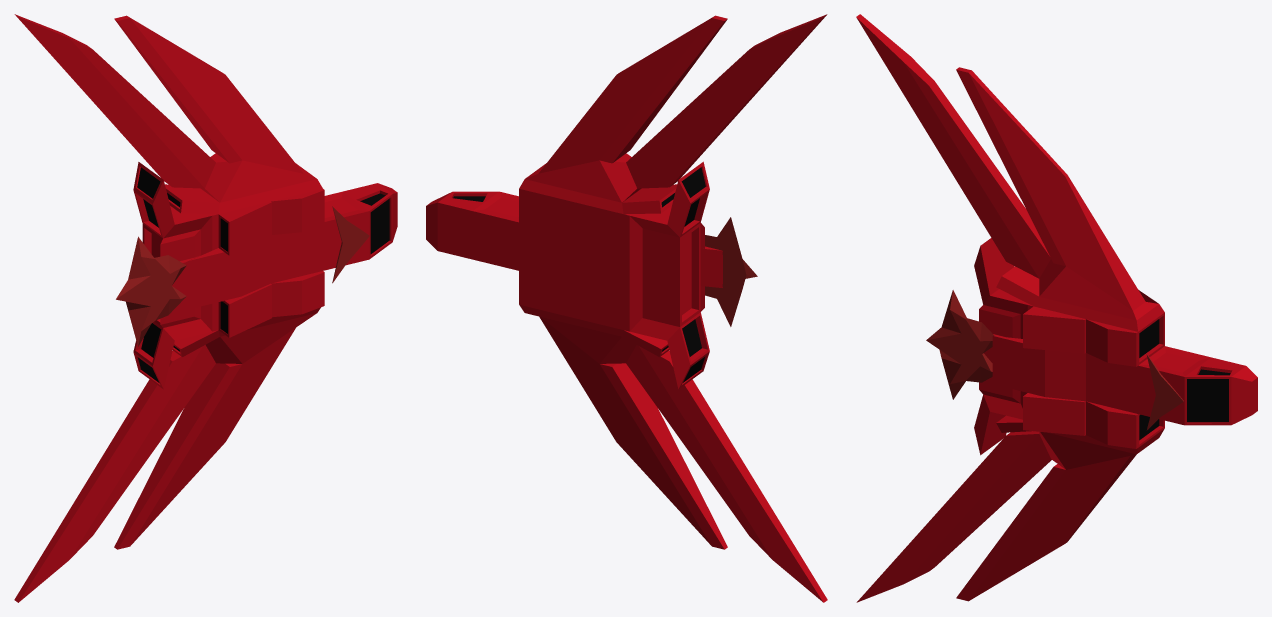
Rendered from Inimigo.fbx.
3 renders of one model, left to right at view 1: azimuth 30°, elevation 25°; view 2: azimuth 150°, elevation 25°; view 3: azimuth 330°, elevation 25°, orthographic.
Parts seen in each view (by area): view 1: Inimigo, Efeito; view 2: Inimigo, Efeito; view 3: Inimigo, Efeito.
Part boxes in pixels (box(x1,y1,x2,y2)): Inimigo: box(14, 14, 397, 602); Efeito: box(116, 206, 369, 346); Inimigo: box(426, 14, 827, 602); Efeito: box(705, 217, 757, 326); Inimigo: box(856, 14, 1257, 602); Efeito: box(926, 290, 1183, 430).
Size of the model in its own units: 4033 by 468 by 2792.
